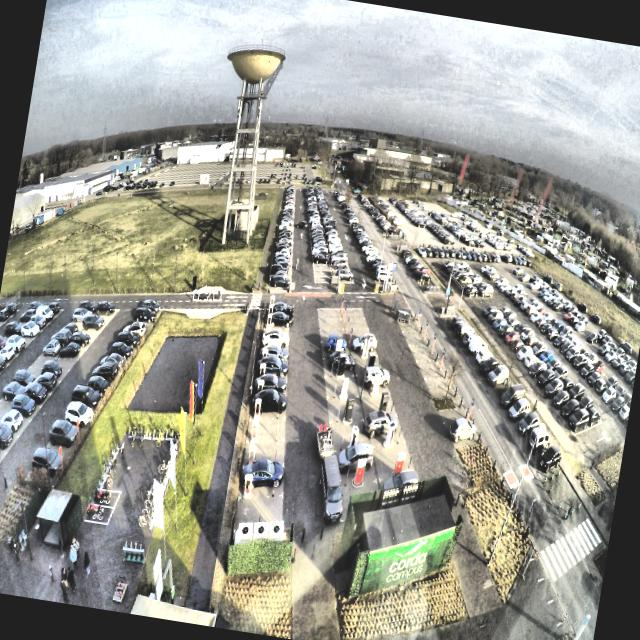cabinet: (237, 523, 284, 539)
car: (242, 458, 285, 488), (252, 388, 289, 415), (256, 353, 290, 376), (253, 373, 287, 393), (259, 343, 289, 361), (266, 310, 294, 328), (261, 329, 290, 346), (271, 300, 294, 316)
parking: (239, 465, 284, 496), (235, 497, 283, 526), (243, 439, 285, 466), (246, 419, 285, 441), (249, 399, 286, 419), (252, 380, 287, 398), (255, 363, 287, 380), (258, 348, 288, 364), (260, 337, 289, 350), (262, 327, 289, 338), (263, 317, 289, 327), (265, 308, 290, 318)
supercharger: (244, 475, 253, 497), (248, 446, 257, 467), (251, 420, 259, 442), (254, 399, 262, 419), (259, 362, 266, 380), (257, 380, 264, 395), (262, 348, 268, 362), (264, 336, 270, 349), (265, 324, 271, 336), (267, 314, 272, 324), (268, 304, 273, 314), (270, 295, 274, 305)
